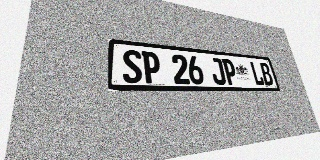2: (171, 54, 190, 84)
6: (186, 55, 205, 84)
B: (259, 62, 274, 86)
J: (209, 57, 227, 85)
L: (249, 61, 265, 85)
P: (141, 51, 161, 84), (221, 59, 238, 85)
S: (122, 49, 143, 83)
